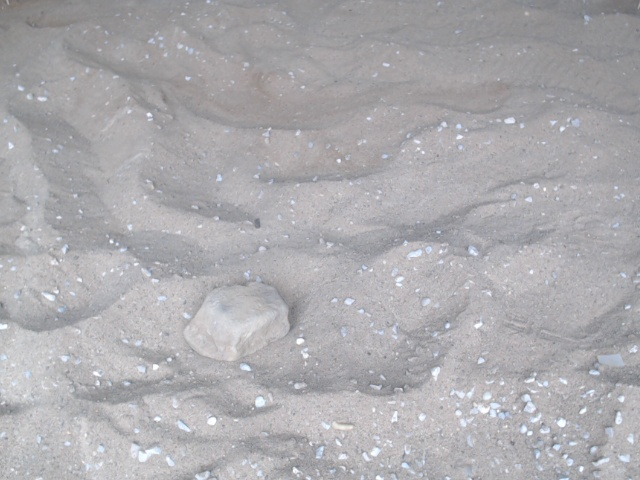rock: (176, 273, 299, 372)
